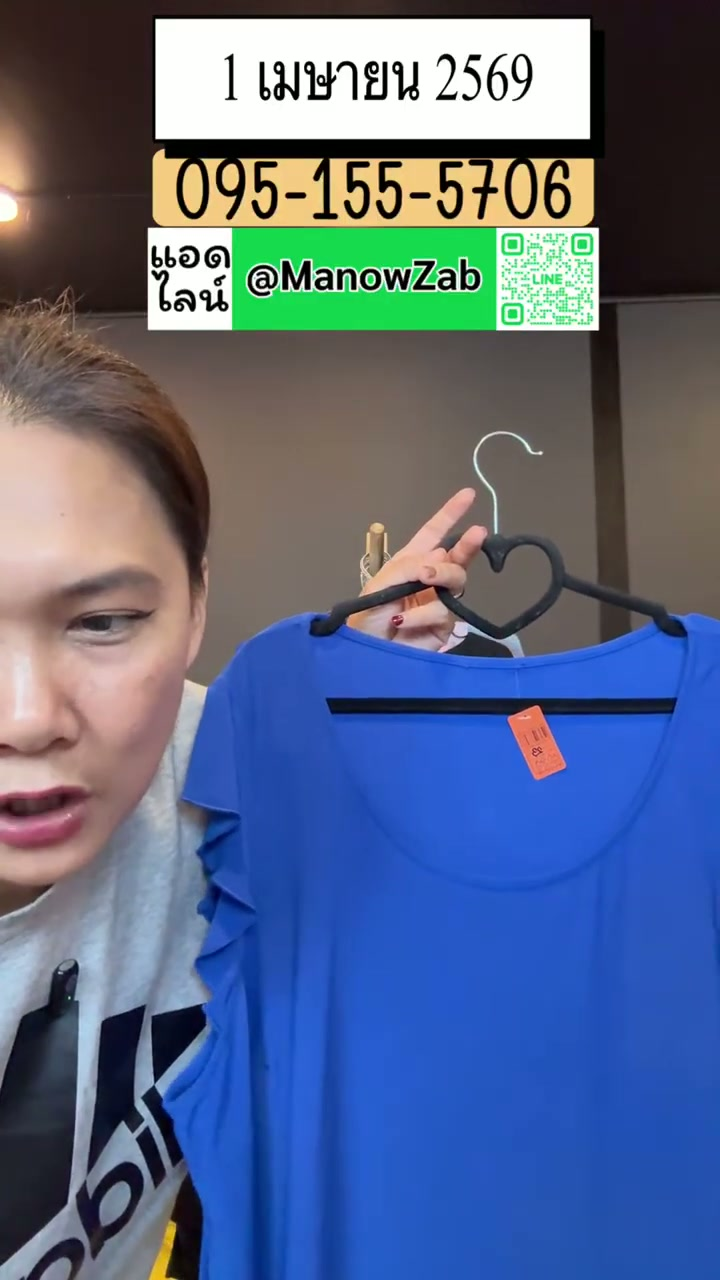display_shirt: (170, 615, 719, 1279)
